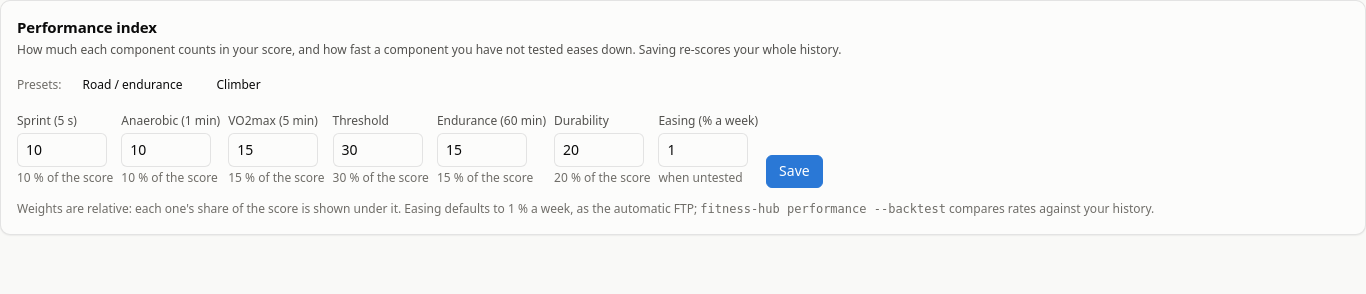
Scenario: saves a preset and says so after the form reloads with the new weights
What coordinates should you click on to do the following:
click the button "Climber"
I would click on:
 (239, 85)
Its box is [204,70,274,100].
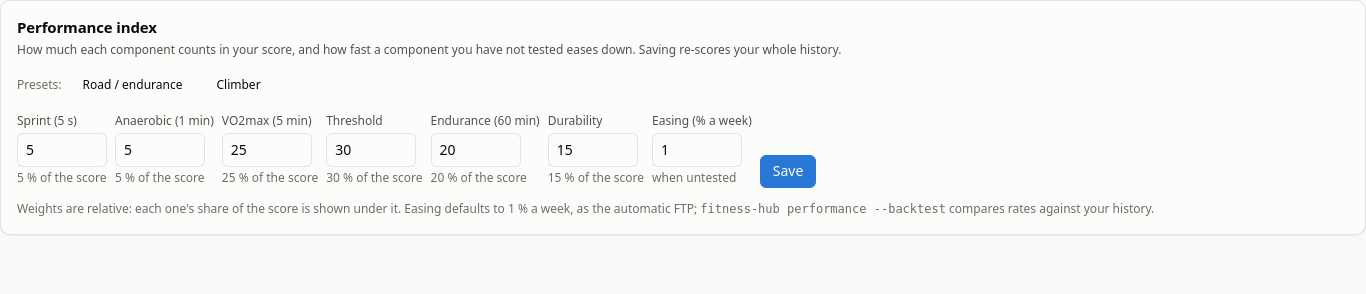
Expected: the number field labelled "VO2max (5 min)" holds "25", [222,133,312,167]
What coordinates should you click on to do the following:
click the button "Save"
I would click on:
 (788, 171)
Its box is [760,155,816,188].
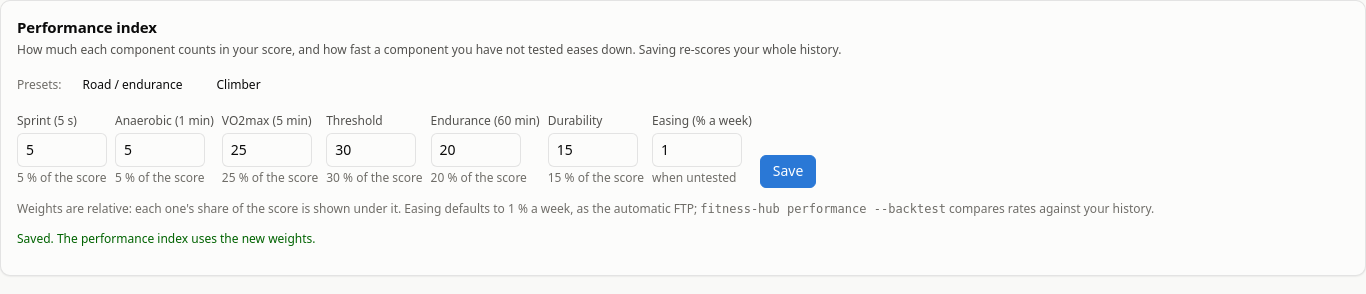
Expected: the number field labelled "VO2max (5 min)" holds "25", [222,133,312,167]
Expected: the text "Saved. The performance index uses the new weights." is shown, [17,230,316,247]
